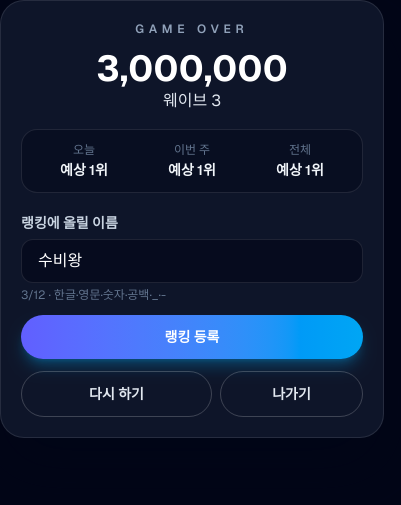
Test: ScoreSubmitPanel — 게임 사양·보드를 따른다 › 재시도할 실패(503 등)는 그 게임 저장소(사양의 위치)에 보관한다
This screenshot has width=401, height=505.
Click the button "랭킹 등록": x=192, y=337 [21,315,363,359]
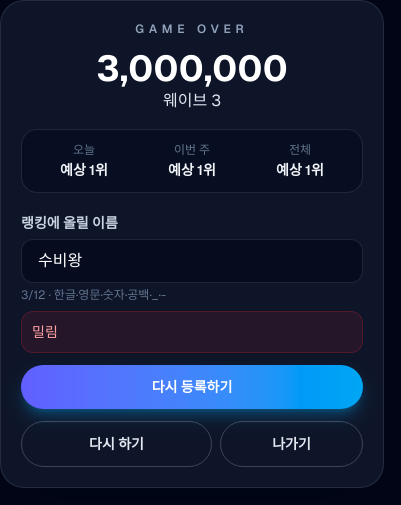
Result: the button "다시 등록하기" is shown at [21,365,363,409]
